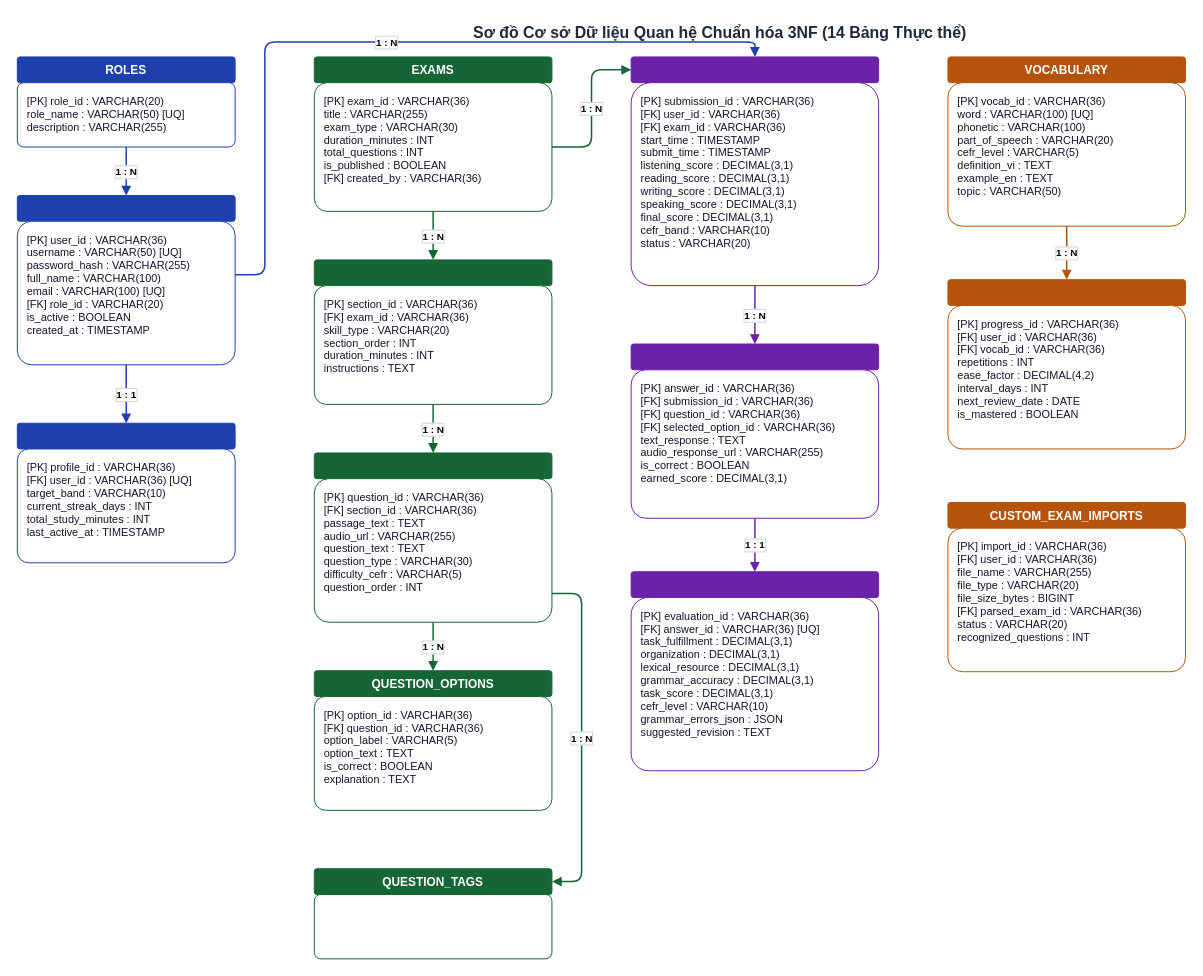
The diagram is 1203 pixels wide and 976 high, and some of its shapes have lost their labels. Each missing label, with the box of its shape:
[PK] tag_id : VARCHAR(36) [FK] question_id : VARCHAR(36) tag_name : VARCHAR(50): (313, 893, 552, 959)
AI_EVALUATION_RESULTS: (630, 571, 879, 597)
QUESTIONS: (313, 452, 552, 479)
SECTIONS: (313, 259, 552, 286)
SUBMISSION_ANSWERS: (630, 343, 879, 370)
SUBMISSIONS: (630, 56, 879, 83)
USER_PROFILES: (16, 422, 235, 449)
USER_VOCAB_PROGRESS: (947, 279, 1186, 305)
USERS: (16, 195, 235, 221)
